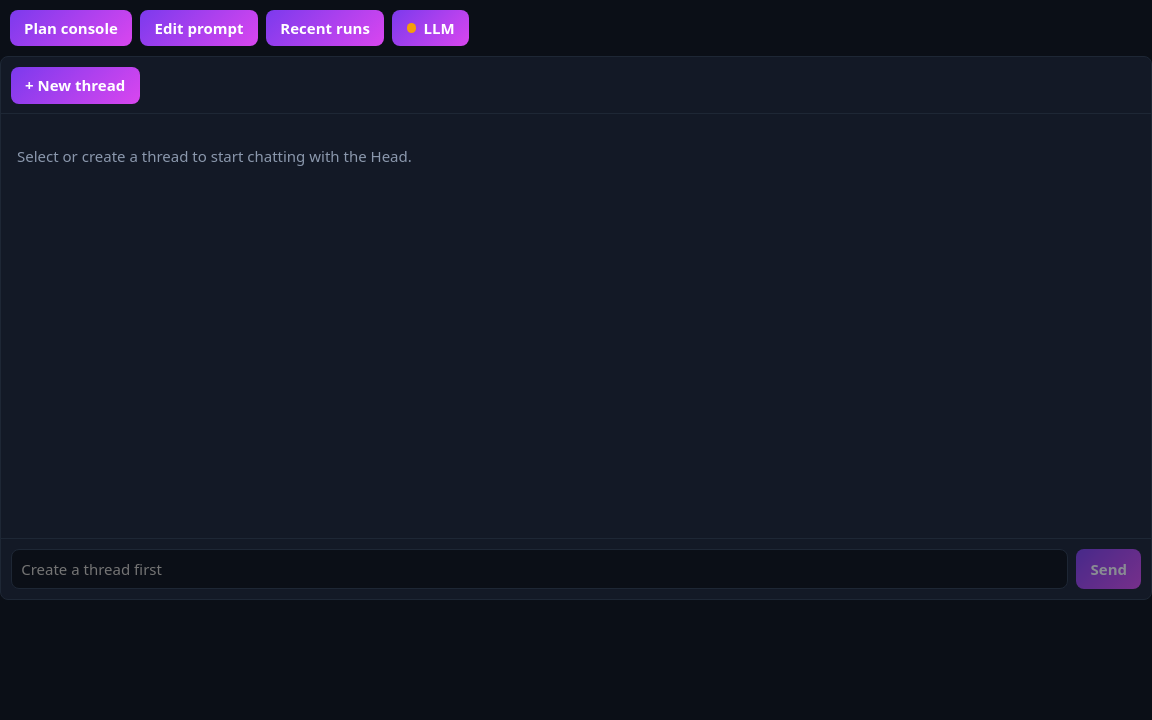
Scenario: HeadHQ › opens the system prompt editor in a drawer and saves
The width and height of the screenshot is (1152, 720).
Expected: the text "System prompt (agent.md)" is not shown
Click the button "Edit prompt".
click(199, 28)  # box [140, 10, 258, 46]
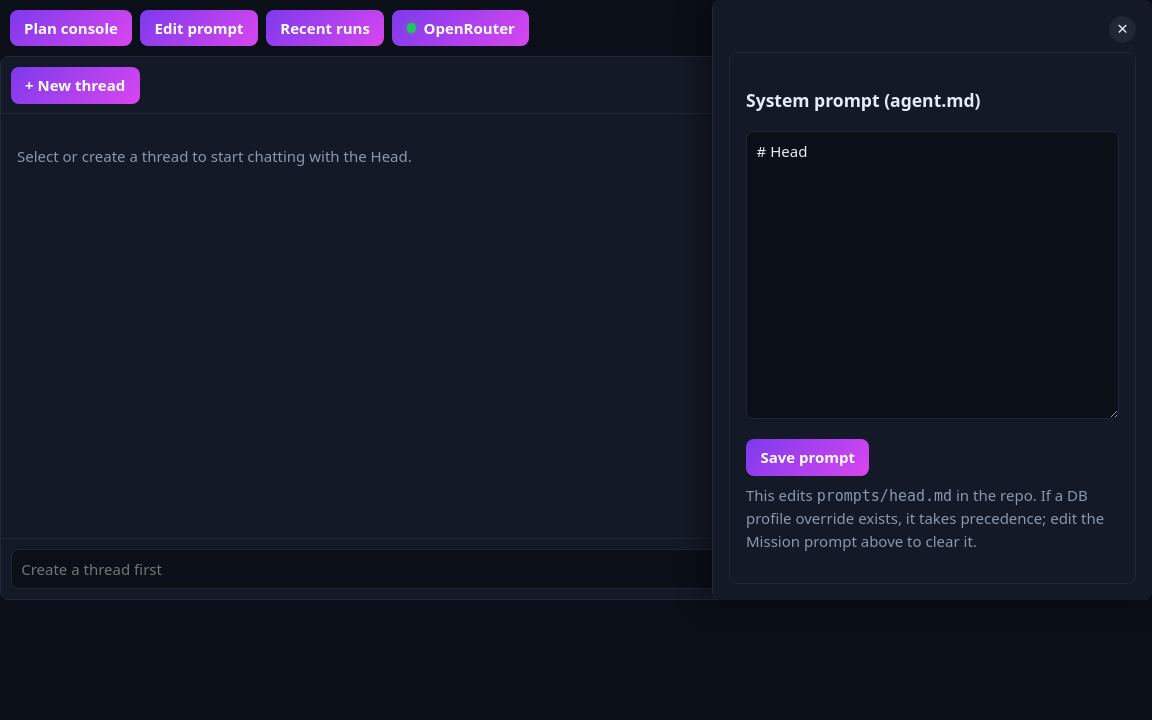
Expected: the heading "System prompt (agent.md)" is shown, [746, 88, 980, 112]
Replace the text in the text box showing "# Head" with "# Head v2" at (932, 275), box [746, 131, 1119, 419]
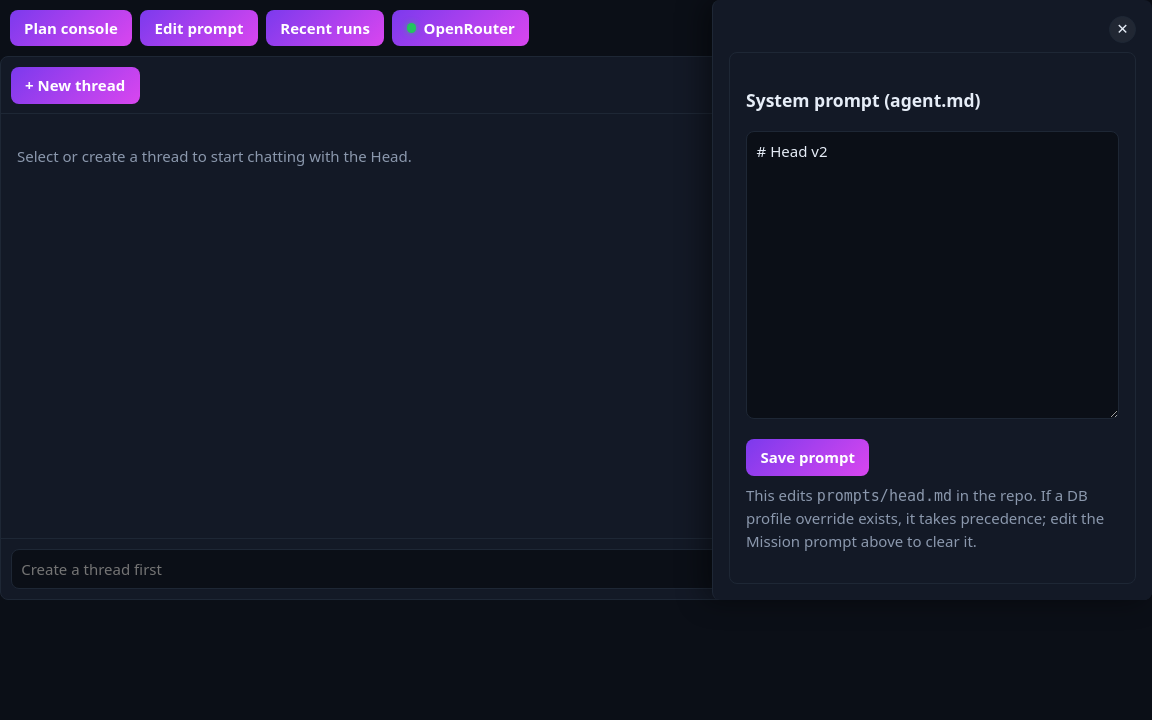
Click the button "Save prompt".
click(808, 457)  # box [746, 439, 869, 476]
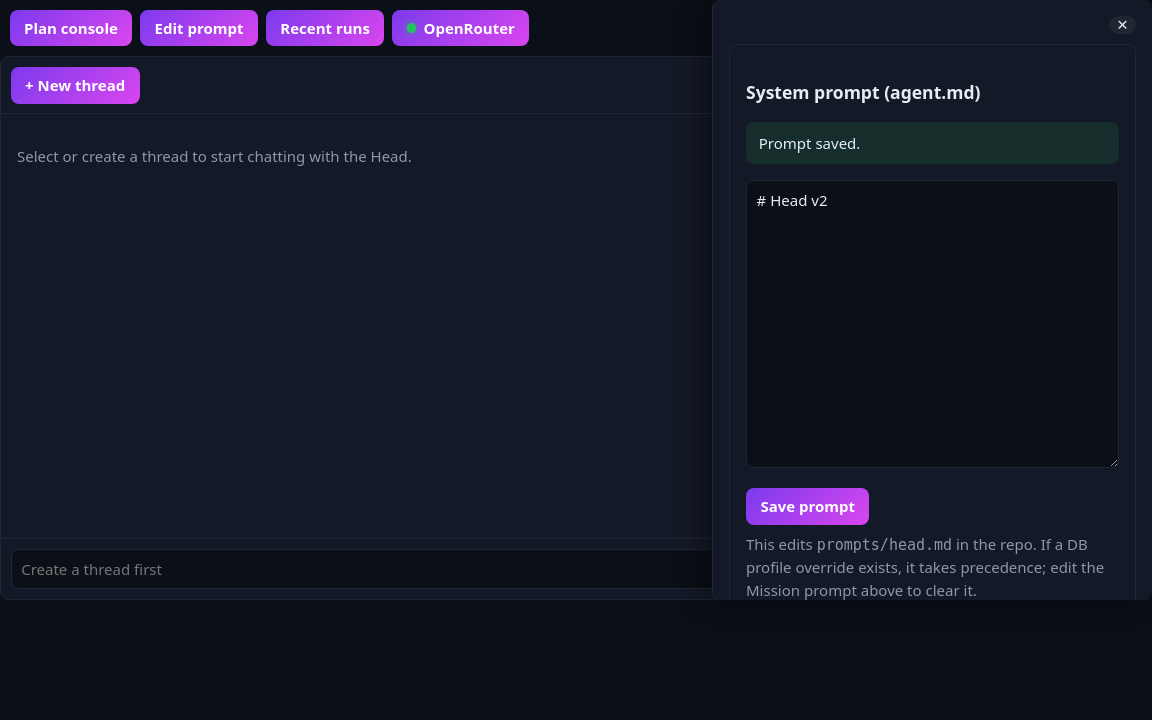
Expected: the text "Prompt saved." is shown, [746, 122, 1119, 164]
